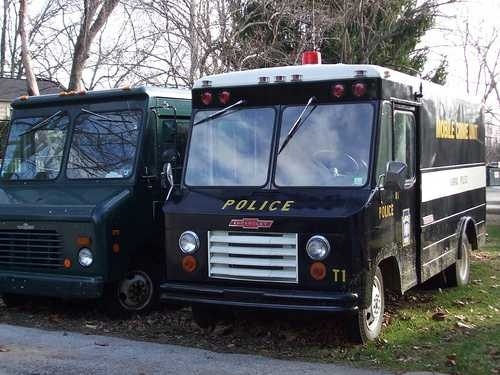Police Car: (184, 27, 495, 356)
